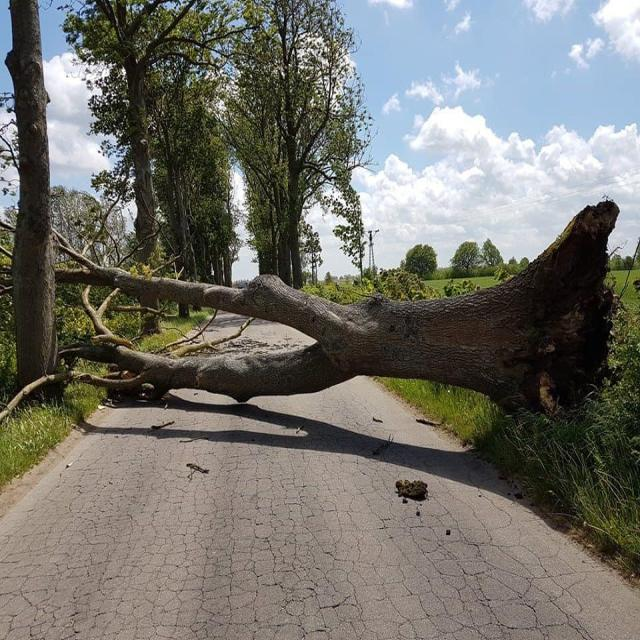fallen_tree: (67, 274, 606, 403)
